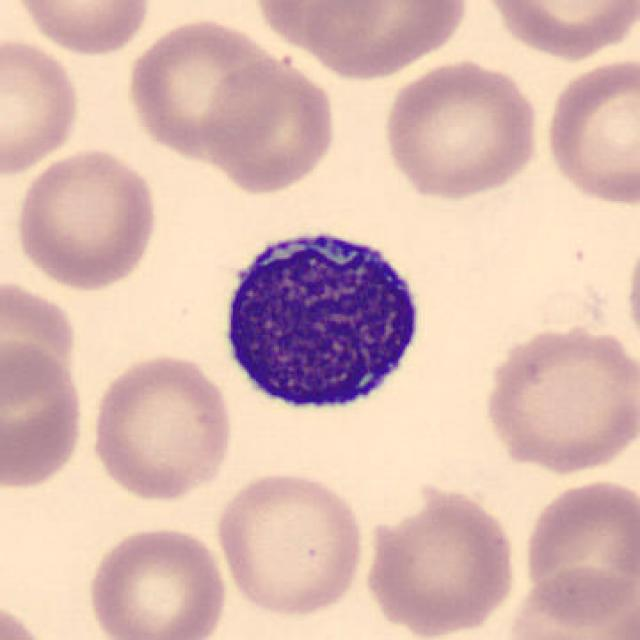Lymphocyte: (208, 213, 432, 425)
RBC: (359, 482, 523, 638), (476, 321, 638, 478), (377, 56, 544, 203), (123, 12, 284, 164), (212, 466, 368, 620), (85, 349, 238, 504), (10, 144, 162, 292), (199, 53, 340, 196), (518, 473, 636, 624), (84, 522, 231, 640), (540, 53, 640, 210), (293, 0, 471, 81), (0, 336, 89, 494), (0, 32, 84, 178), (0, 272, 82, 406), (472, 0, 638, 63), (503, 562, 638, 638), (9, 0, 155, 58), (249, 0, 389, 55), (620, 218, 640, 366), (0, 596, 53, 640)
